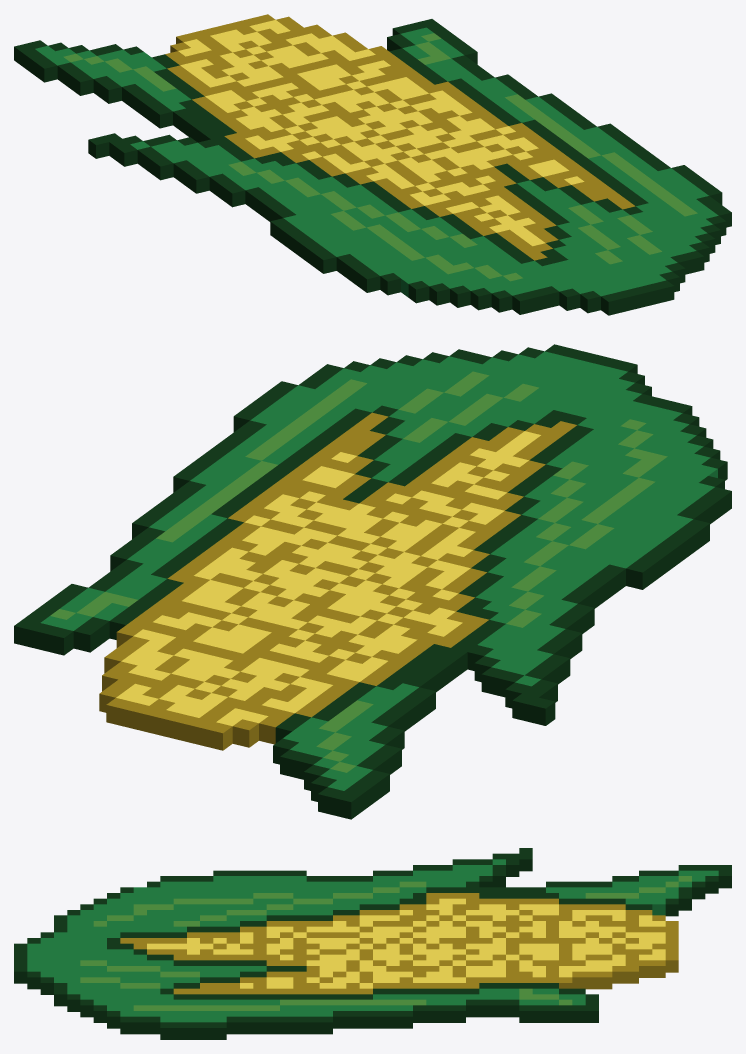
The model's file is Kykyryza.obj.
The picture shows the model from 3 angles, top to bottom: view 1: azimuth 30°, elevation 25°; view 2: azimuth 150°, elevation 25°; view 3: azimuth 270°, elevation 25°; orthographic projection. The views are drawn at different scales.
Visible parts, largest first — view 1: Kykyryza; view 2: Kykyryza; view 3: Kykyryza.
Part boxes in pixels (left/top/right/bottom): Kykyryza: left=14, top=14, right=731, bottom=315; Kykyryza: left=14, top=344, right=731, bottom=819; Kykyryza: left=14, top=848, right=731, bottom=1039.
Bounding box in the file's own units: 32 × 1 × 54.
